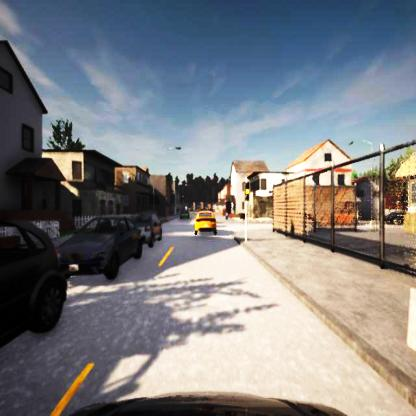vehicle: (0, 214, 70, 400), (54, 216, 142, 278), (132, 212, 160, 247), (193, 210, 217, 235)
